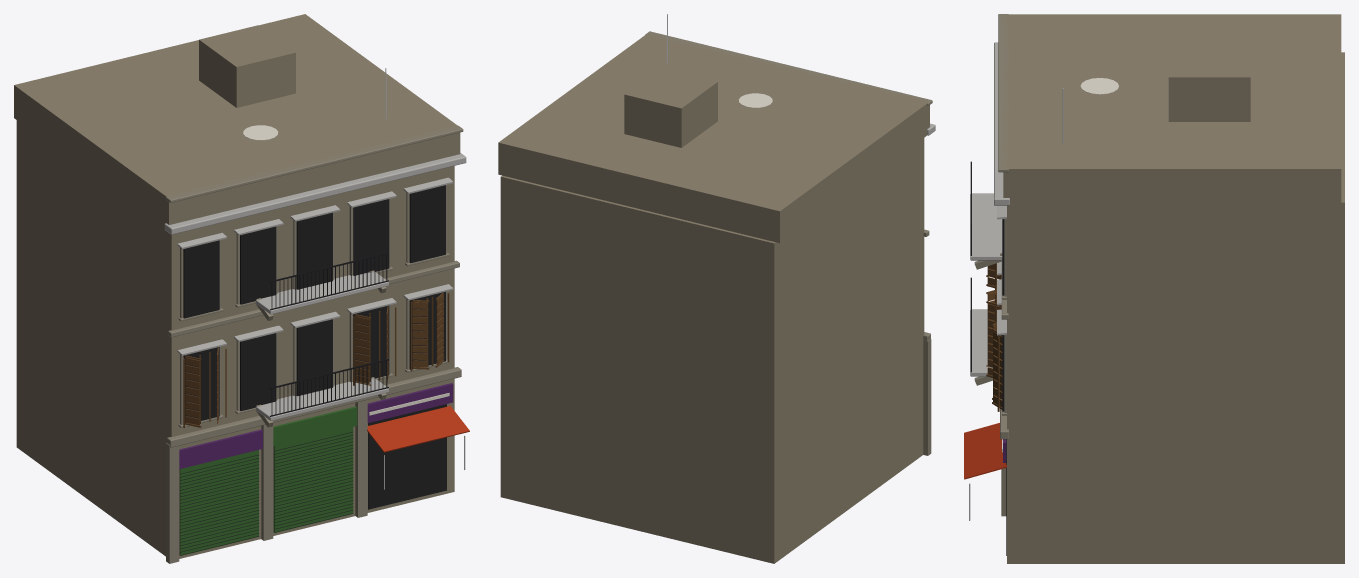
The model's file is KIT_BLDG_E.glb.
The picture shows the model from 3 angles, left to right: view 1: azimuth 30°, elevation 25°; view 2: azimuth 150°, elevation 25°; view 3: azimuth 270°, elevation 25°; orthographic projection. The views are drawn at different scales.
Parts seen in each view (by area): view 1: KIT_BLDG_E; view 2: KIT_BLDG_E; view 3: KIT_BLDG_E.
Part boxes in pixels (box(x1,y1,x2,y2)): KIT_BLDG_E: box(14, 14, 469, 563); KIT_BLDG_E: box(498, 14, 935, 563); KIT_BLDG_E: box(964, 14, 1344, 563).
Size of the model in its own units: 10.44 by 14.03 by 10.7.
